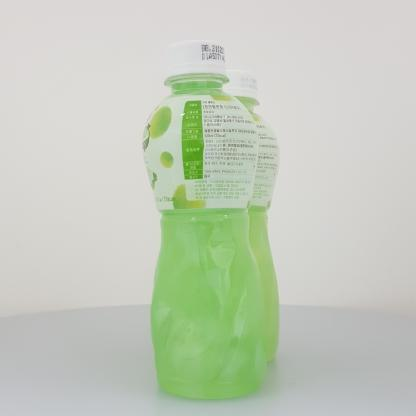-----------: (142, 39, 268, 398)
